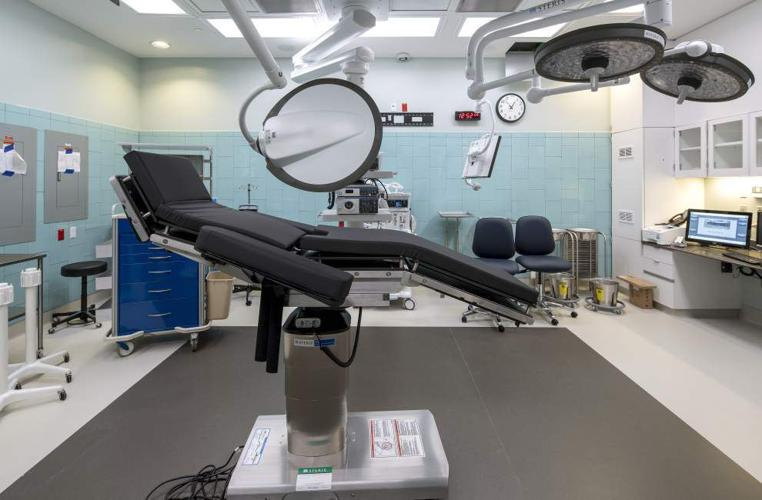bedside_monitor: (461, 136, 501, 178)
cabinet: (669, 117, 762, 175)
chair: (515, 214, 579, 324), (461, 217, 519, 332), (49, 260, 108, 334)
computer: (685, 208, 753, 250)
countertop: (640, 233, 762, 272)
handle: (144, 310, 174, 320), (146, 267, 176, 276), (147, 254, 173, 261), (146, 287, 172, 294)
iv_pole: (236, 180, 262, 202)
medical_drawer: (112, 201, 213, 355)
operating_bed: (106, 144, 541, 499)
surgical_light: (257, 78, 383, 192), (533, 23, 667, 92), (640, 41, 755, 104)
table: (1, 253, 48, 359)
telephone: (667, 210, 688, 227)
waste_bin: (204, 270, 236, 323), (589, 274, 627, 315), (549, 266, 581, 304)
